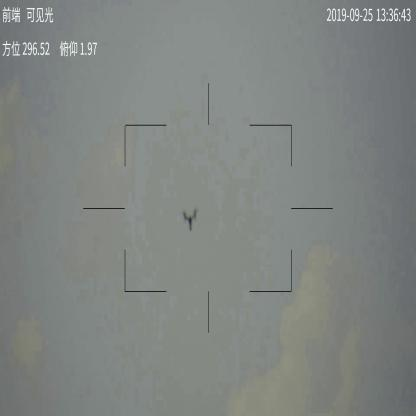uav: (182, 206, 198, 230)
